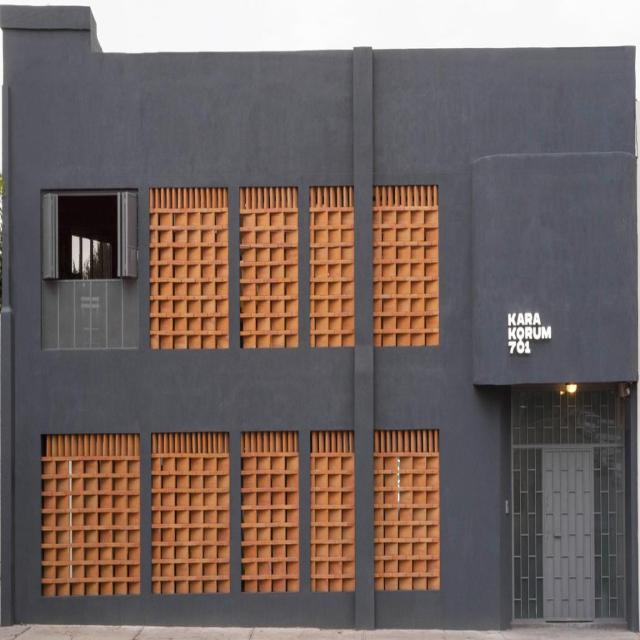Railing: (42, 280, 138, 351)
door: (540, 447, 596, 624)
wall: (1, 5, 640, 627)
windows: (511, 388, 629, 624), (42, 436, 138, 598), (151, 430, 231, 594), (148, 188, 230, 346), (373, 188, 439, 352), (374, 424, 439, 587), (242, 429, 298, 594), (242, 192, 298, 348), (44, 188, 137, 280), (310, 187, 354, 351), (312, 429, 355, 595)
